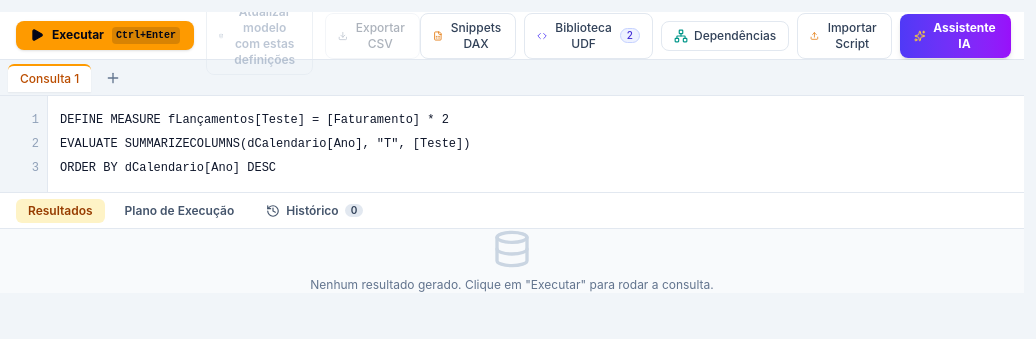
Scenario: <DaxQueryView /> grid (Rhino bug repro) › shows 2026 (no thousands separator) under dCalendario[Ano] and the T value under T, not blank
Click the text "Executar" at (78, 36), box [52,28,104,44]
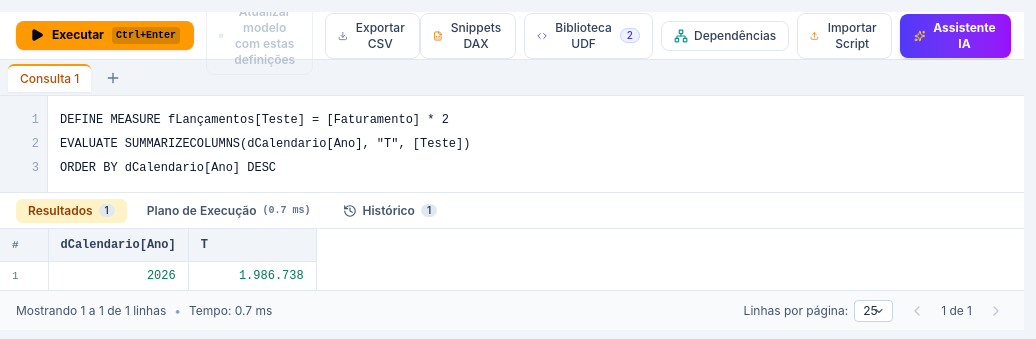
Expected: the column heading "T" is shown, [188,229,316,262]
Expected: the column heading "dCalendario[Ano]" is shown, [48,229,188,262]
